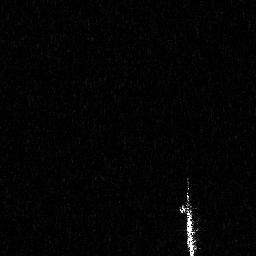ship: (177, 174, 204, 256)
